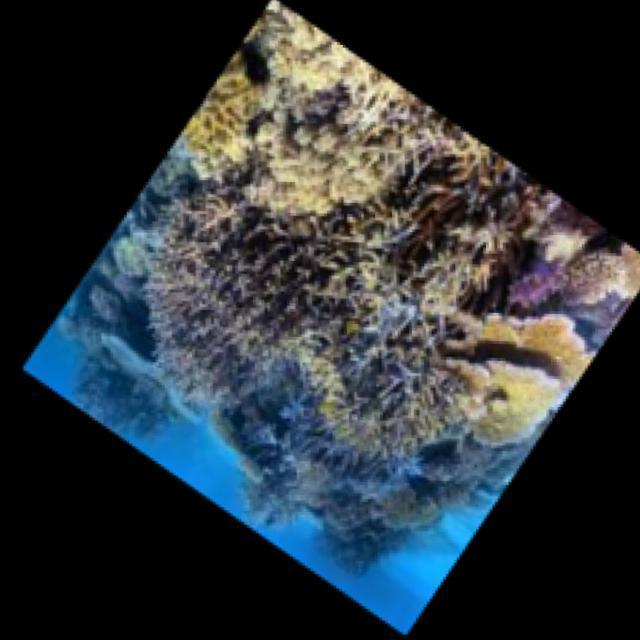Dead Coral: (120, 187, 327, 420), (309, 275, 464, 534), (412, 180, 541, 311)
